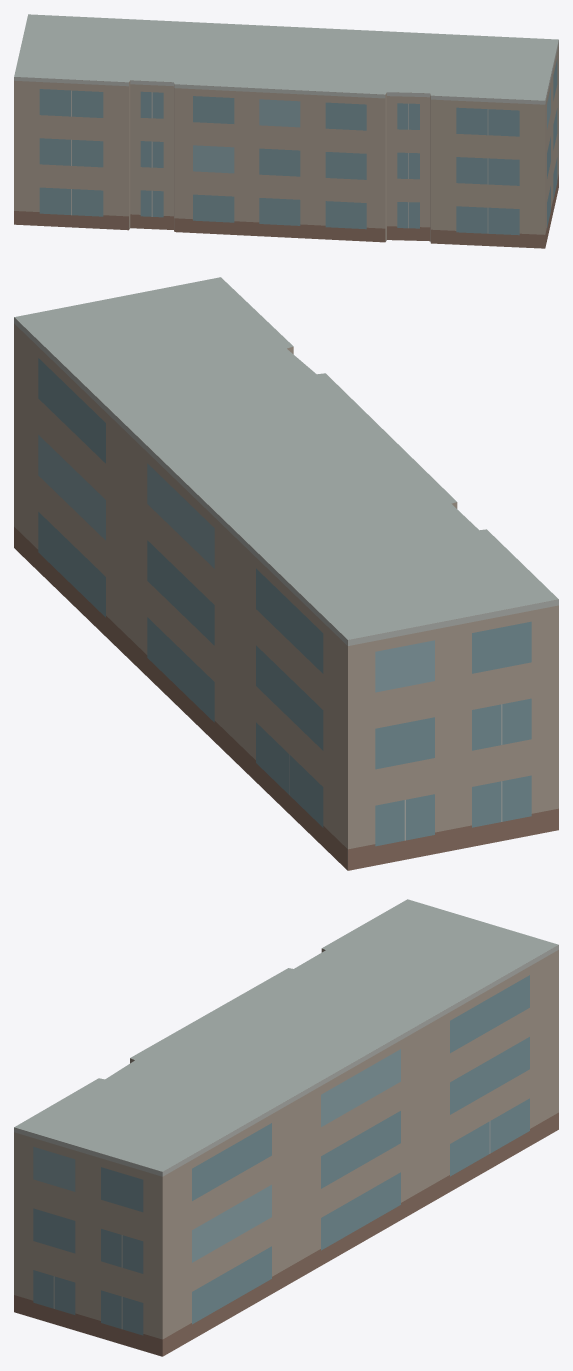
Rendered from survey-upis-32540891.glb.
3 renders of one model, top to bottom at view 1: azimuth 30°, elevation 25°; view 2: azimuth 150°, elevation 25°; view 3: azimuth 270°, elevation 25°, orthographic. The views are drawn at different scales.
Visible parts, largest first — view 1: survey-upis-32540891.tmp; view 2: survey-upis-32540891.tmp; view 3: survey-upis-32540891.tmp.
Boxes of the visible parts, x1,y1,x2,y2 form: survey-upis-32540891.tmp: (14,14,558,248); survey-upis-32540891.tmp: (14,277,558,870); survey-upis-32540891.tmp: (14,899,558,1356).
Bounding box in the file's own units: 28.95 × 9.15 × 24.45.
